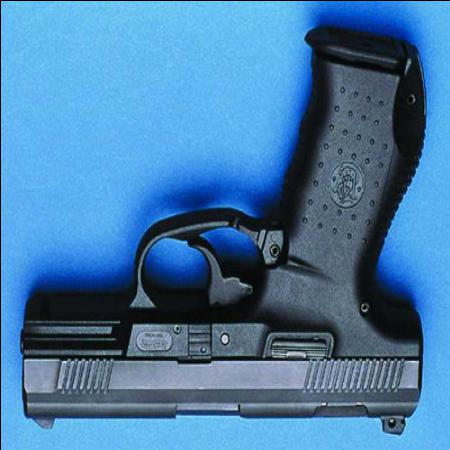Pistol: (20, 28, 426, 433)
